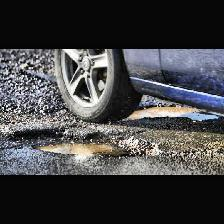pothole: (9, 127, 161, 158)
